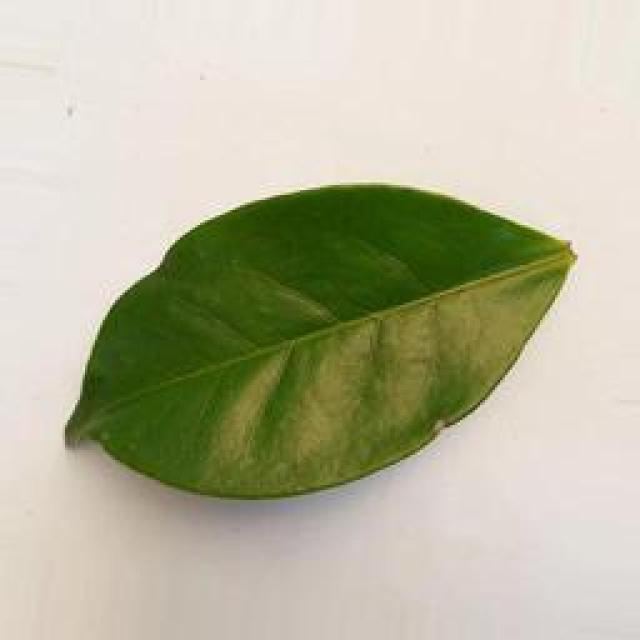Healthy: (68, 178, 588, 501)
